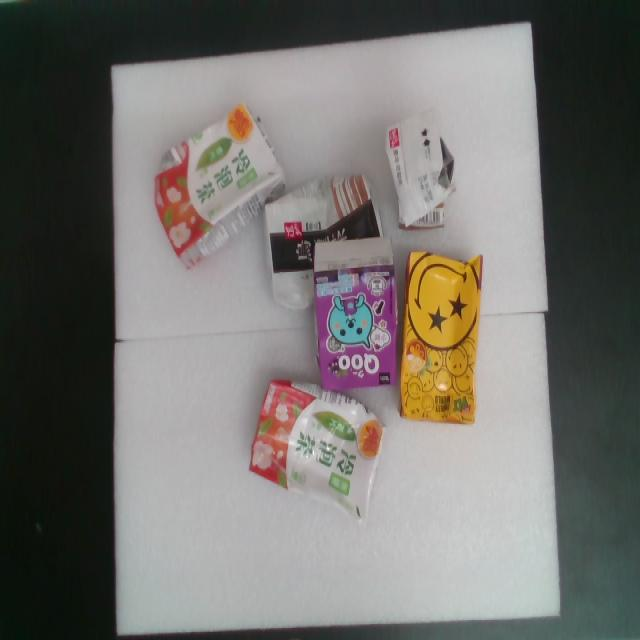juicebox: (117, 87, 320, 283), (215, 354, 420, 538), (389, 237, 495, 441), (305, 235, 404, 398), (377, 100, 475, 245)
